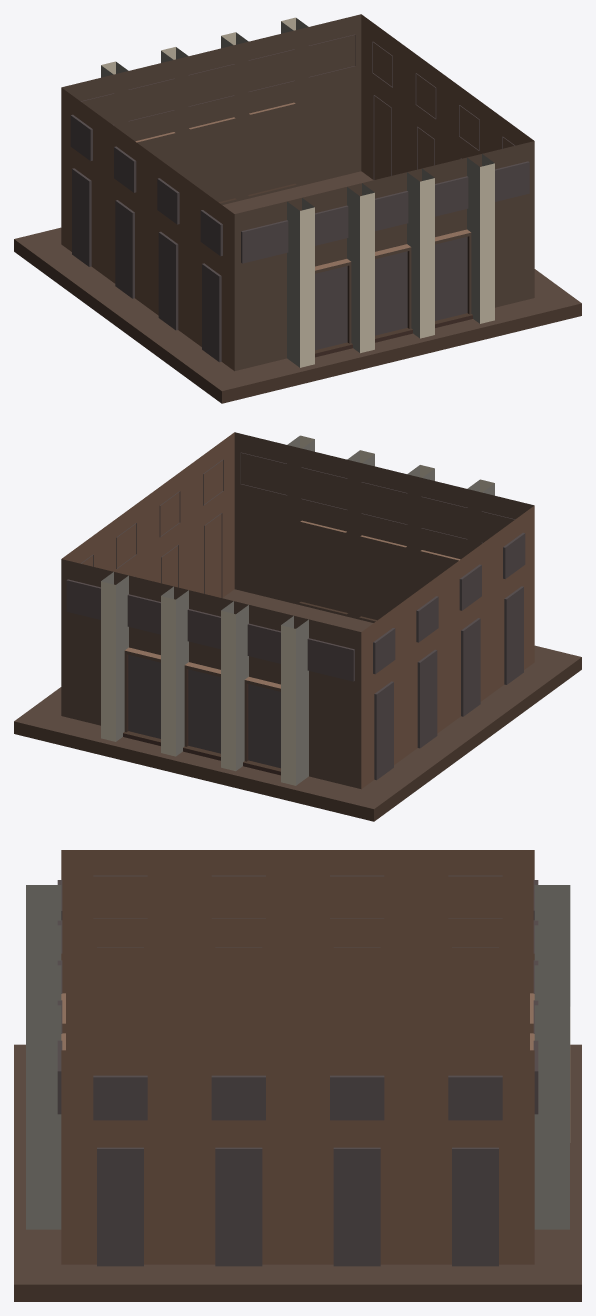
The model's file is TB_CITY_Skysc_D_Bottom_Brown.FBX.
The picture shows the model from 3 angles, top to bottom: view 1: azimuth 30°, elevation 25°; view 2: azimuth 150°, elevation 25°; view 3: azimuth 270°, elevation 25°; orthographic projection. The views are drawn at different scales.
Parts seen in each view (by area): view 1: TB_CITY_Skysc_D_Bottom_Brown; view 2: TB_CITY_Skysc_D_Bottom_Brown; view 3: TB_CITY_Skysc_D_Bottom_Brown.
Boxes of the visible parts, x1,y1,x2,y2 form: TB_CITY_Skysc_D_Bottom_Brown: (14, 14, 581, 403); TB_CITY_Skysc_D_Bottom_Brown: (14, 432, 581, 821); TB_CITY_Skysc_D_Bottom_Brown: (14, 850, 581, 1301).
Bounding box in the file's own units: 24 × 10.8 × 24.
